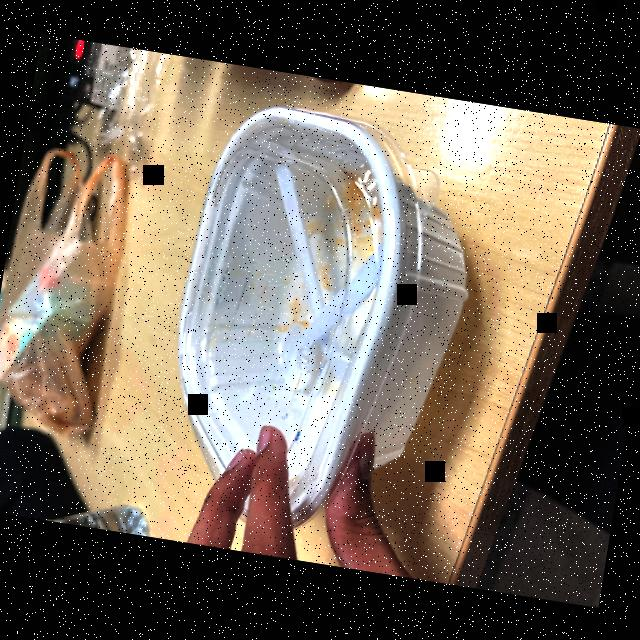plastic_box: (153, 78, 498, 556)
